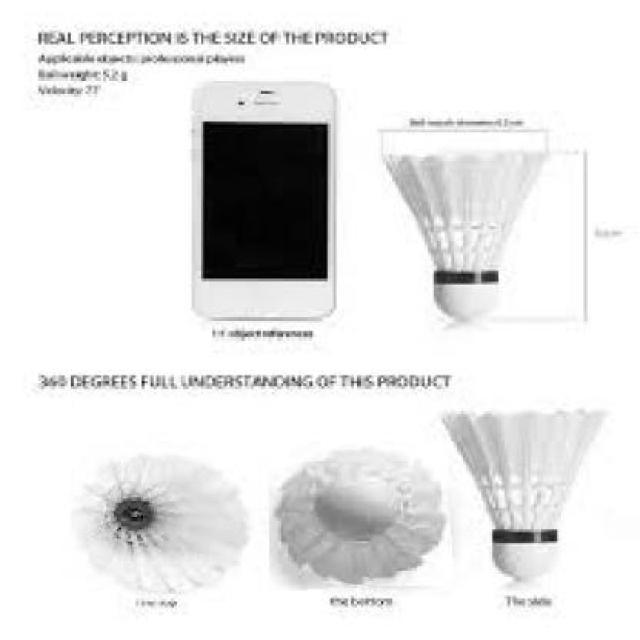Shuttlecock: (63, 445, 255, 603), (268, 443, 450, 589)
